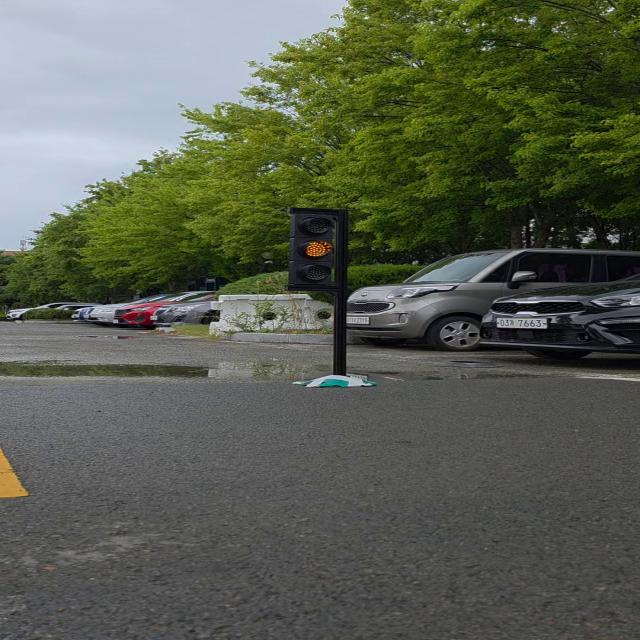yellow: (282, 201, 346, 295)
